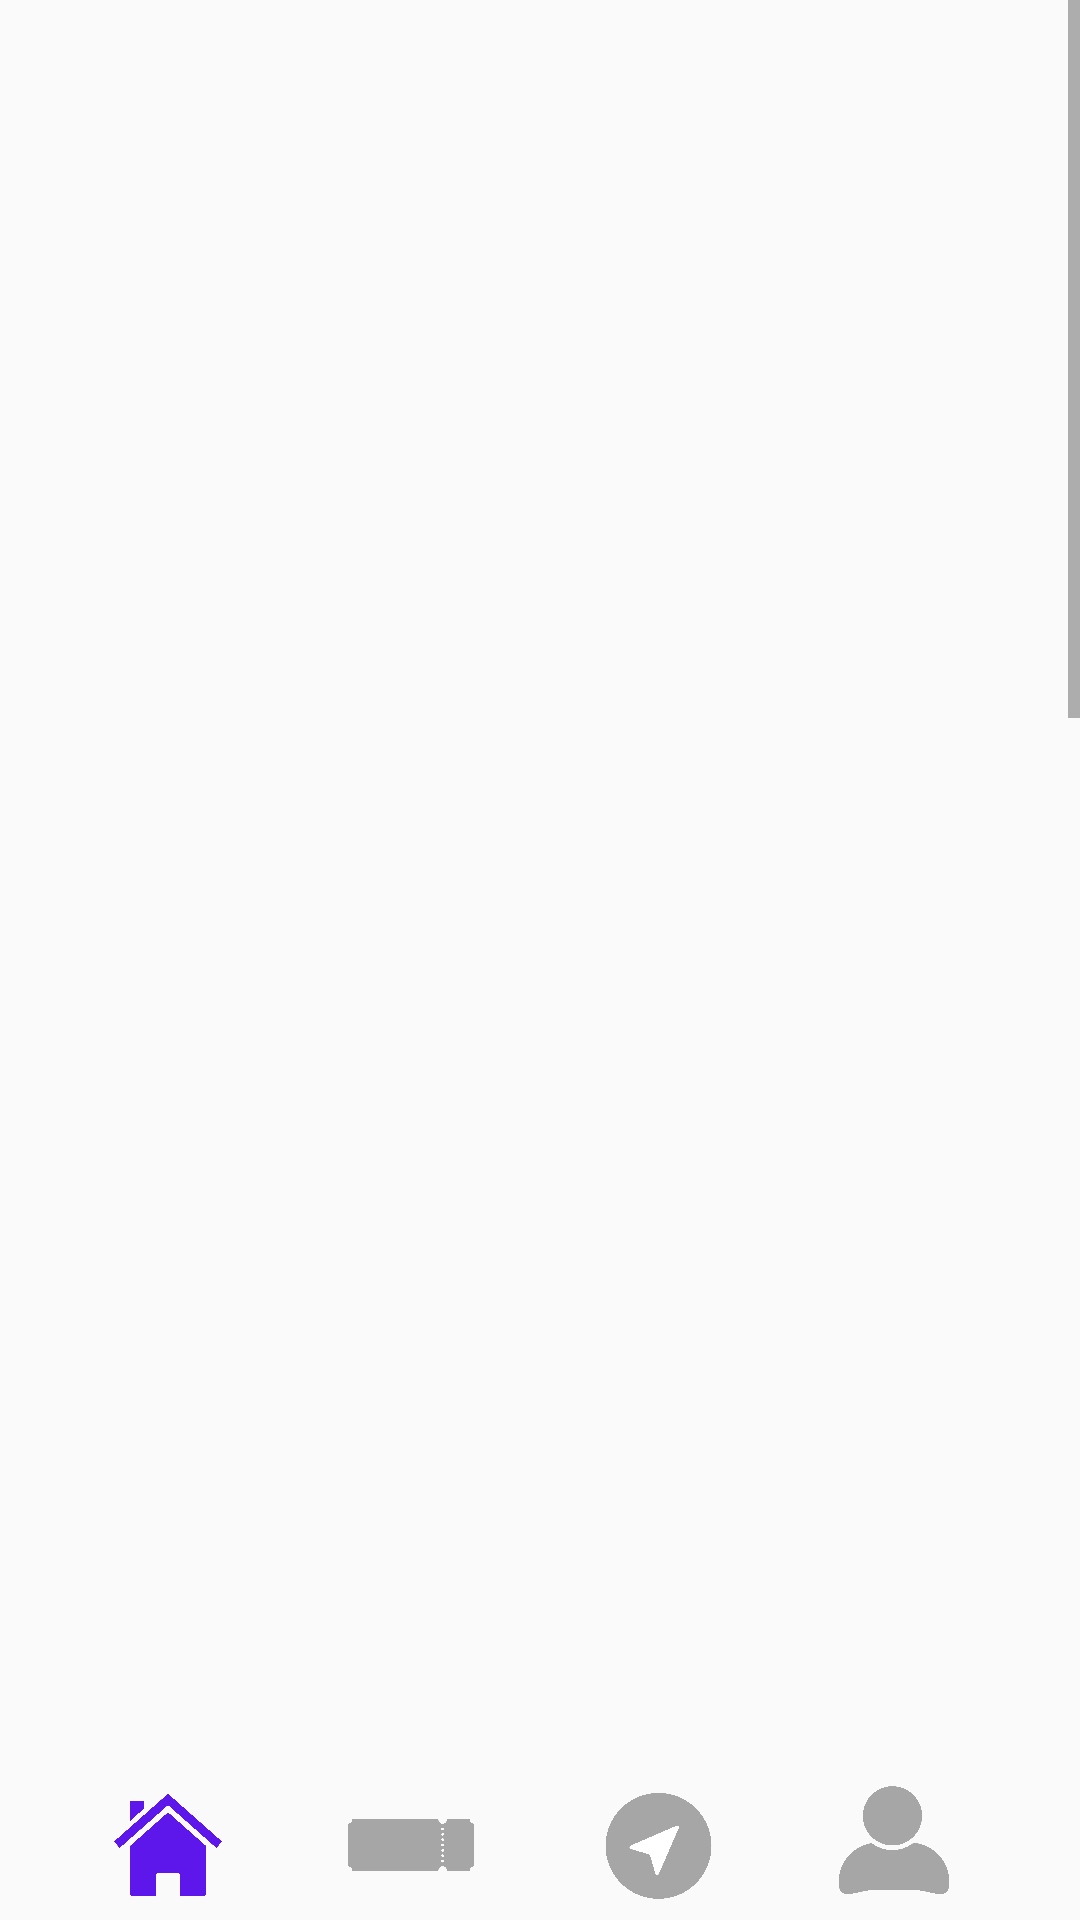

Screen size 1080x1920. Icon name, then its center in pixels as point (x, y):
home: point (168, 1845)
myinfo: point (894, 1840)
site: point (658, 1846)
ticket: point (411, 1845)
